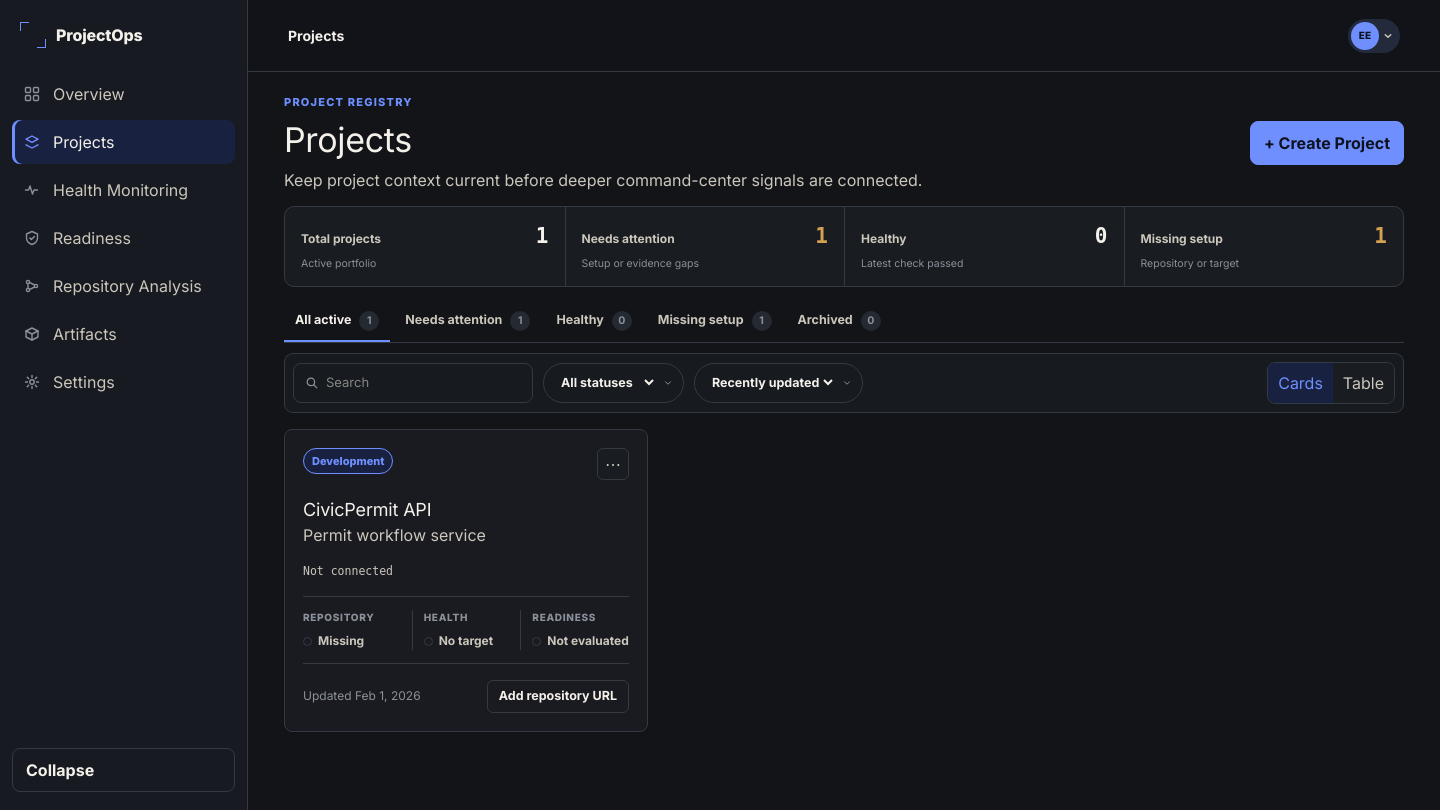
Test: Archive Project flow › shows a pending state while archiving
Click the button named "More actions for CivicPermit API" at (613, 464), box [597,448,629,480]
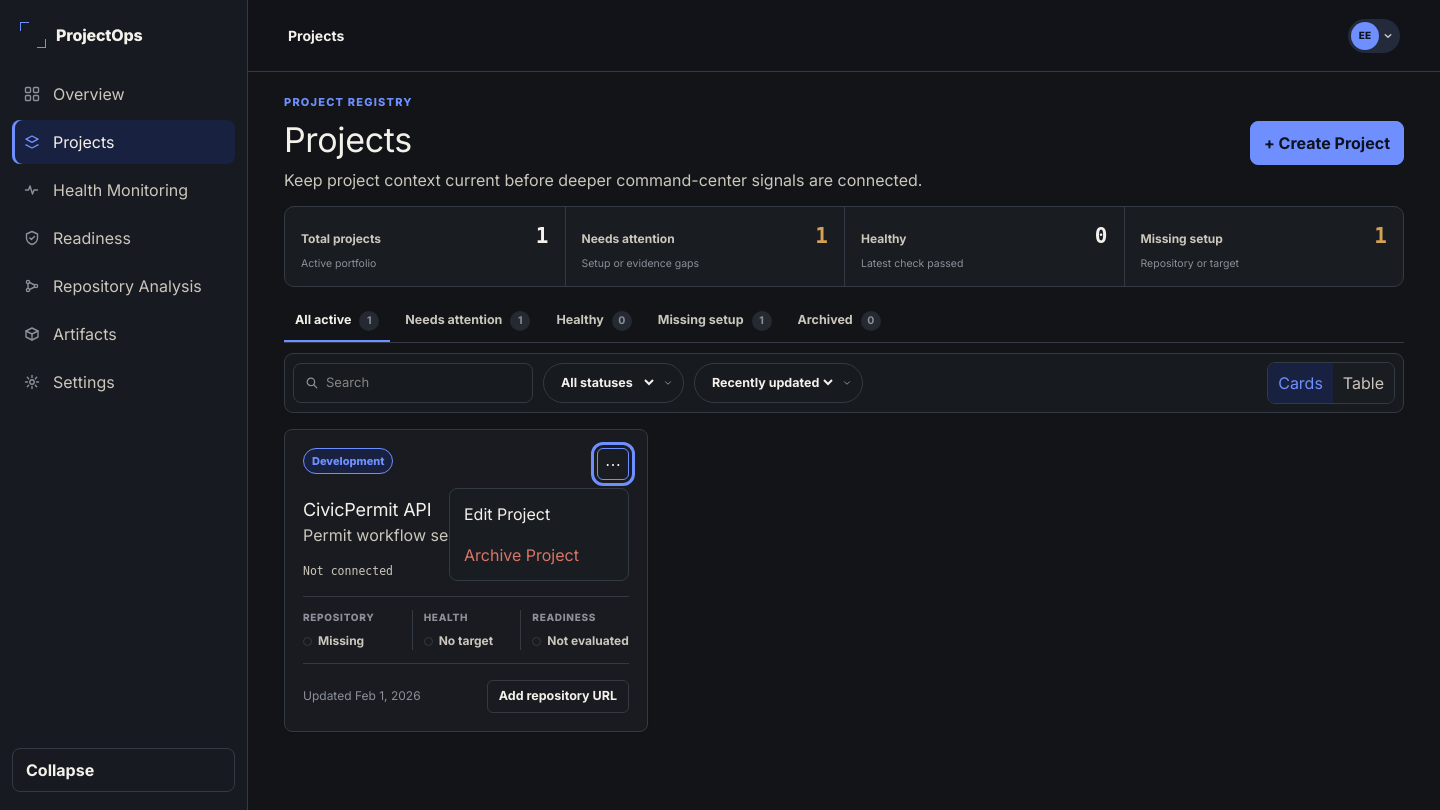
Click the menu item "Archive Project" at (539, 555), box [455,535,623,575]
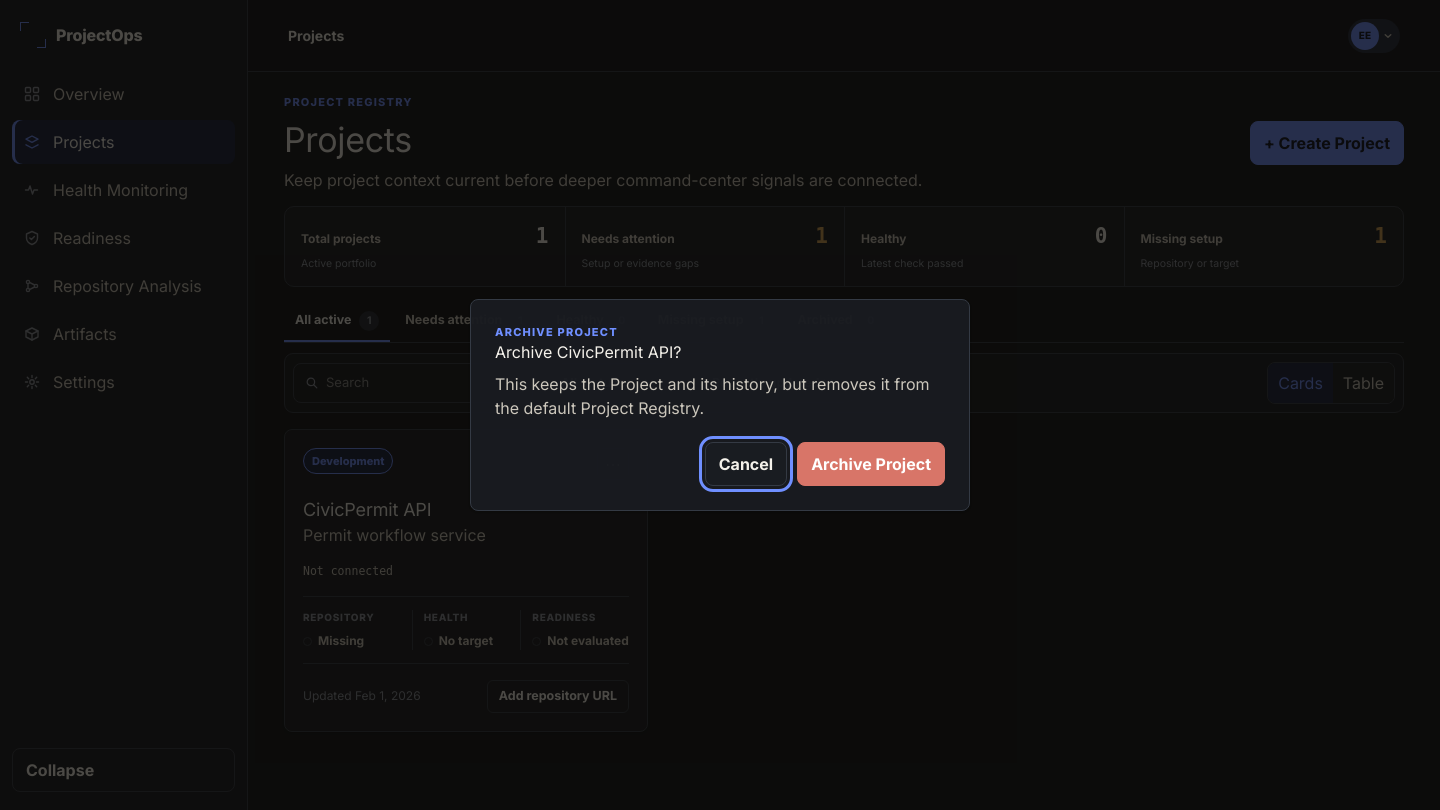
Click the button "Archive Project" at (871, 464), box [797,442,945,486]
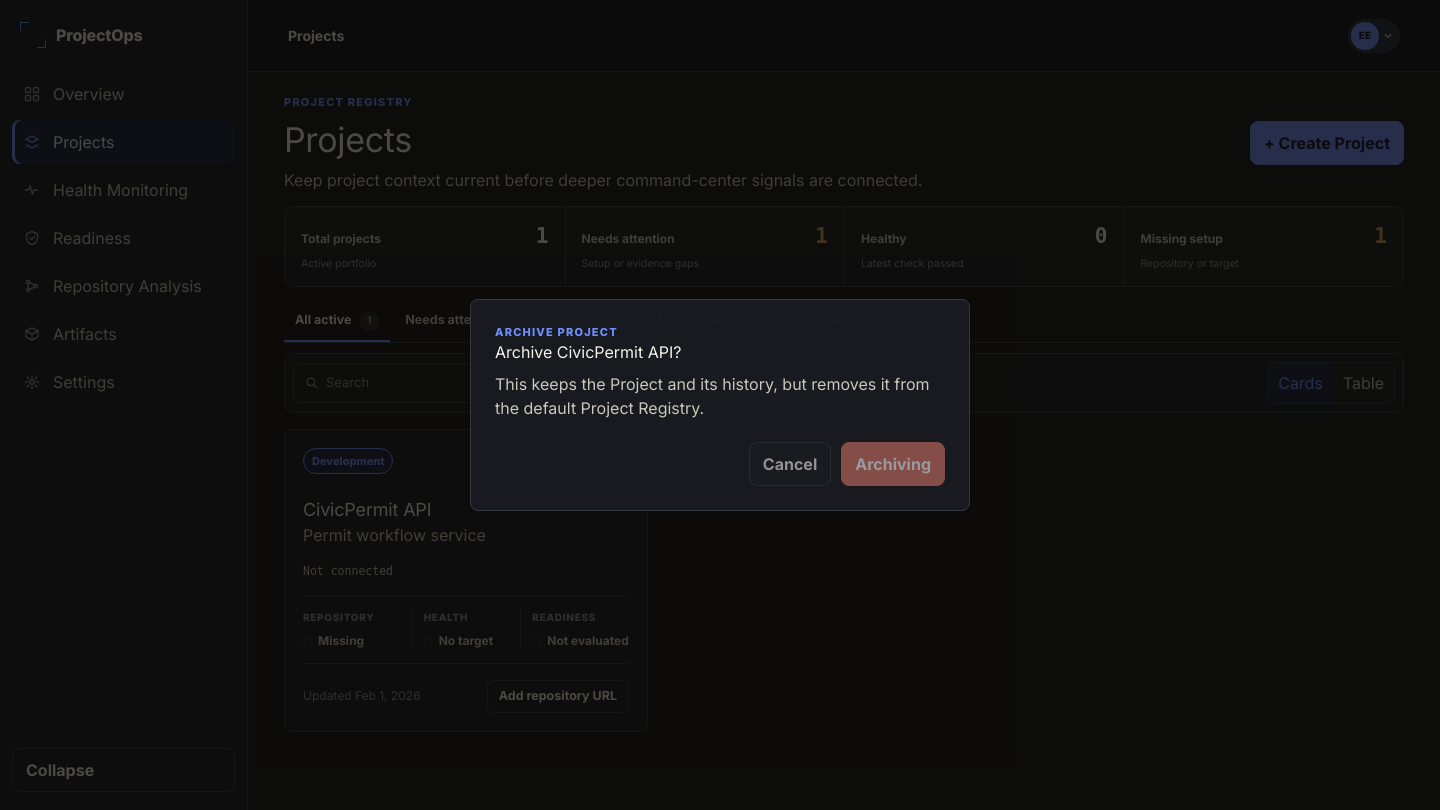
Result: the button "Archiving" is disabled at [841,442,945,486]
